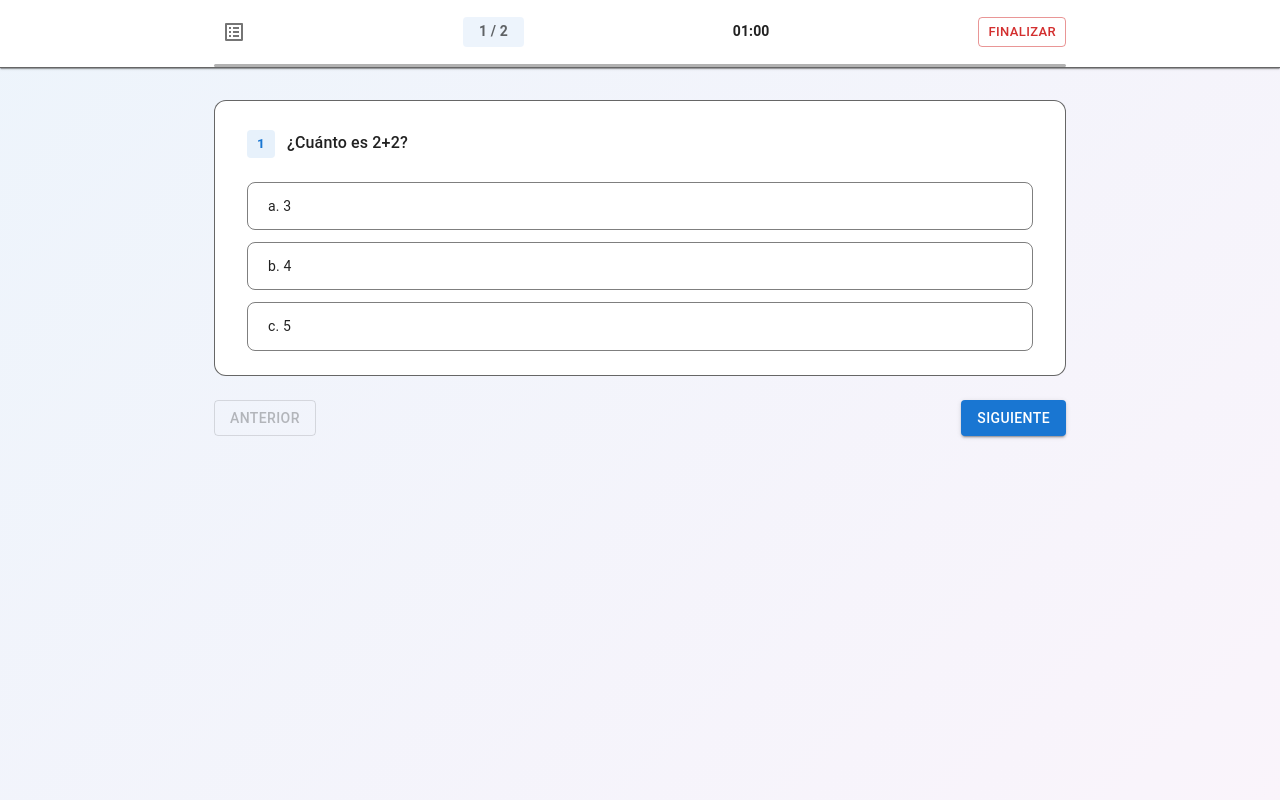
QuestionaryView › should show results with score when wrong answers given
Click the text "a. 3". click: (280, 206)
box: x1=268 y1=198 x2=291 y2=214
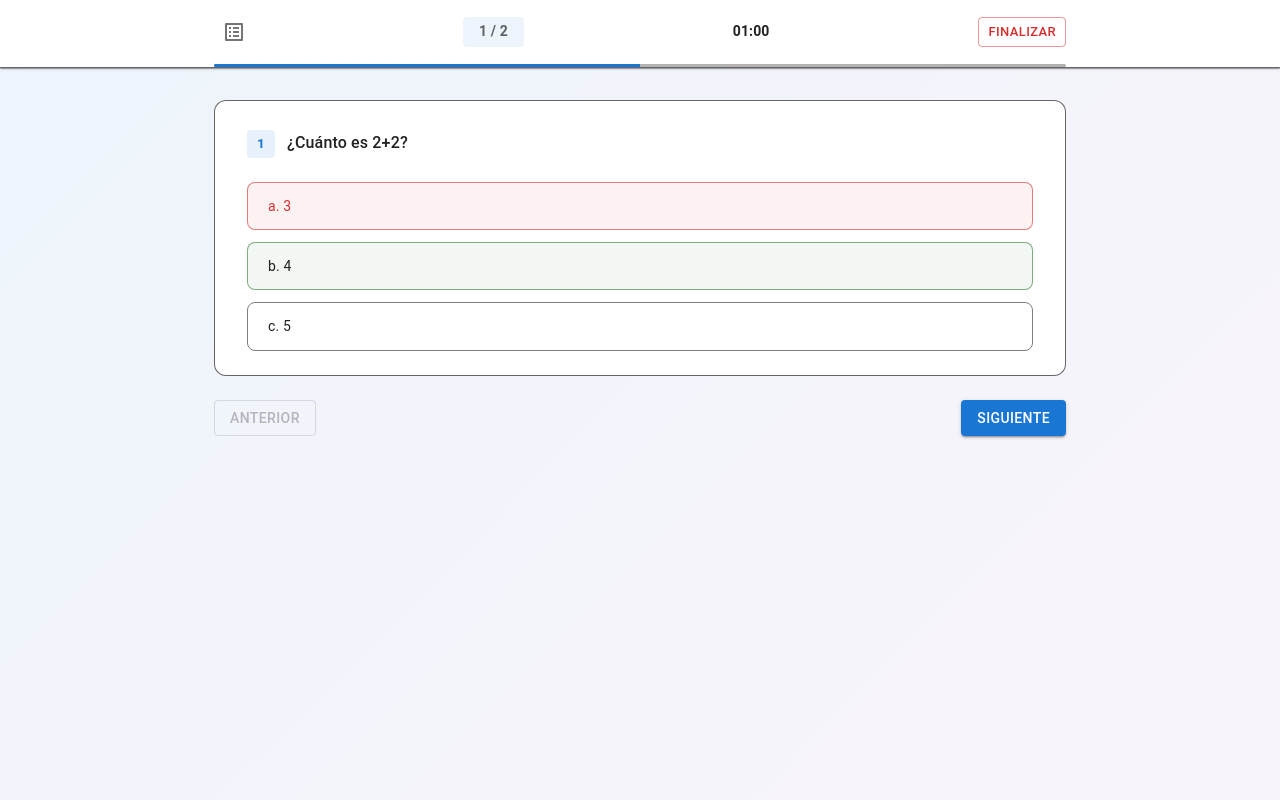
Click the button "Siguiente". click: (1014, 418)
box: x1=961 y1=400 x2=1066 y2=436
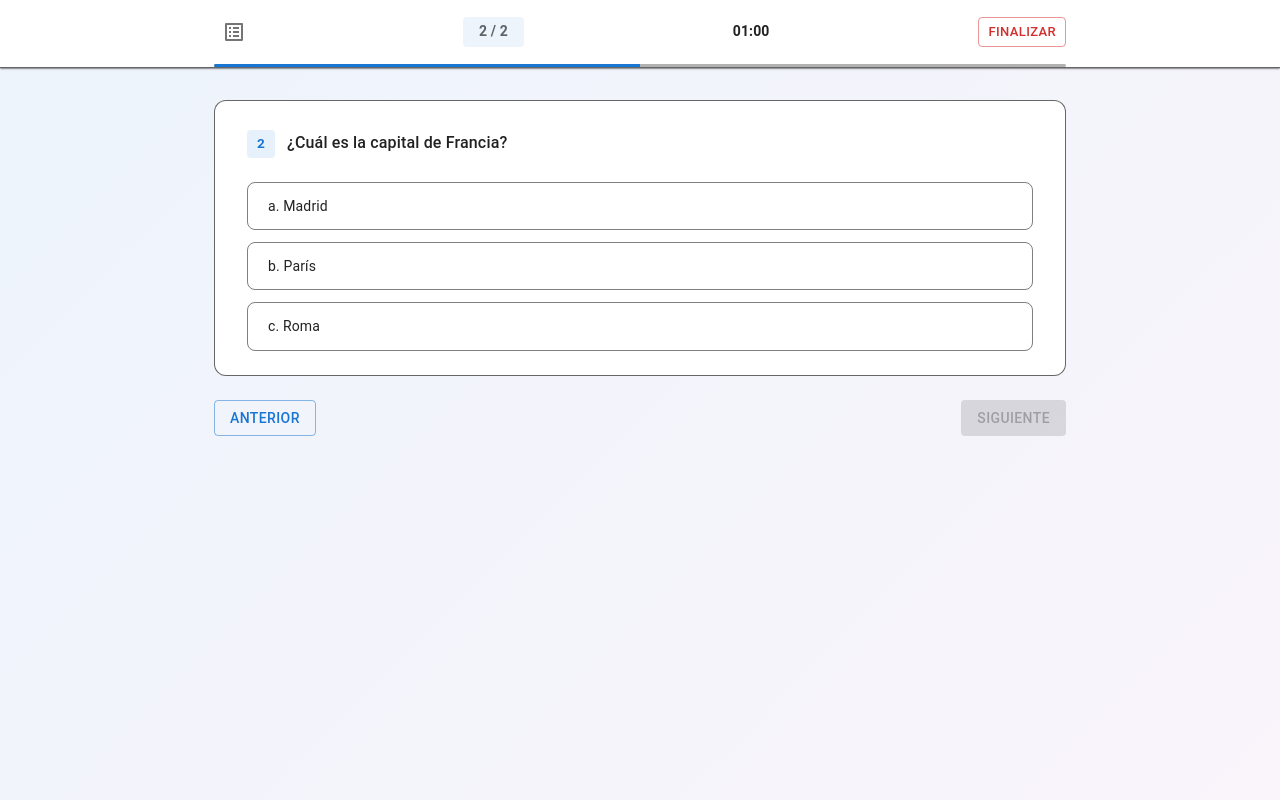
Click the text "b. París". click: (292, 266)
box: x1=268 y1=258 x2=316 y2=274
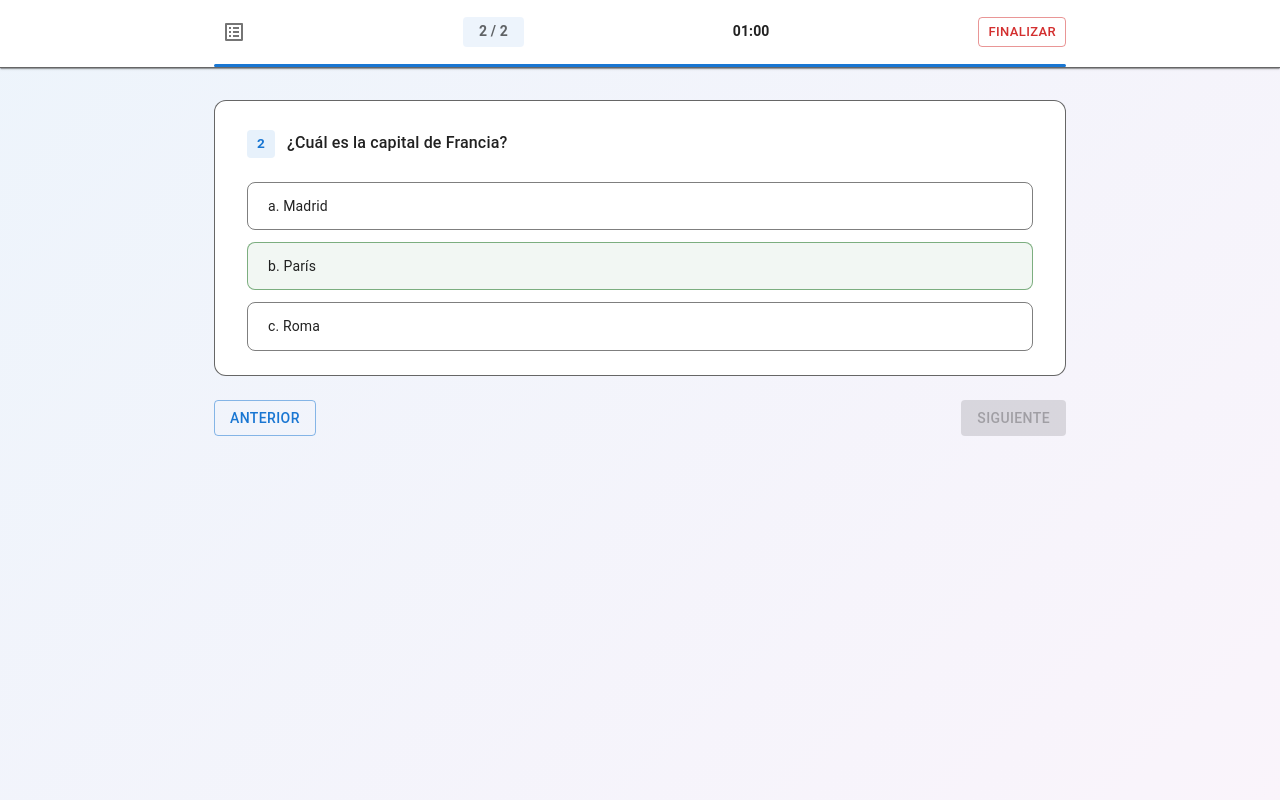
Click the button "Finalizar". click: (1022, 32)
box: x1=978 y1=17 x2=1066 y2=47
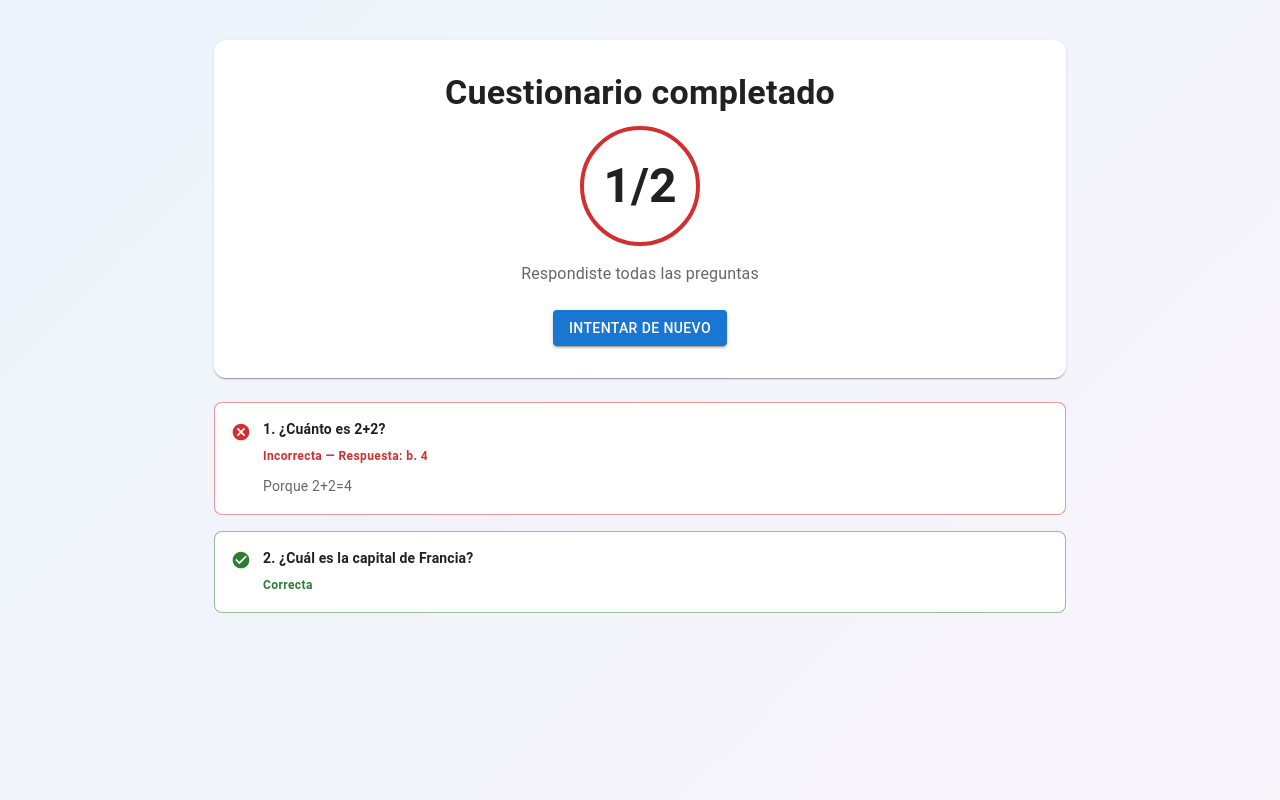
Check: the heading "1/2" is shown, box x1=604 y1=158 x2=676 y2=214
Check: the heading "Cuestionario completado" is shown, box x1=445 y1=72 x2=835 y2=112
